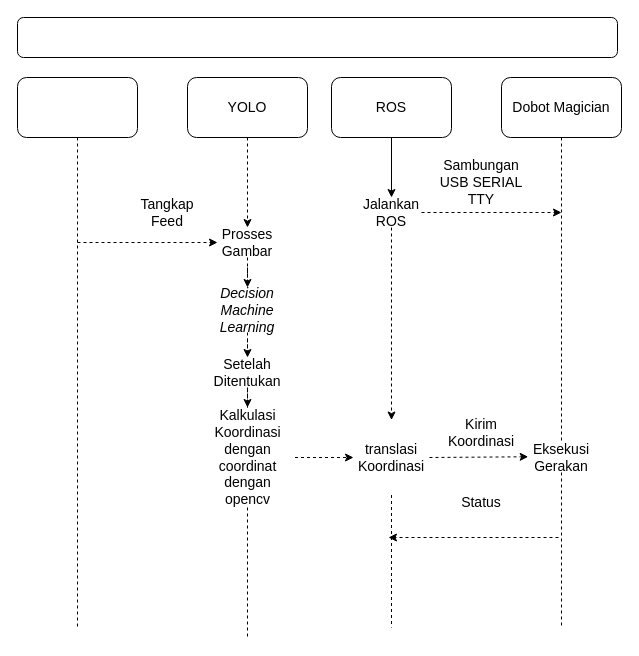
Some shapes in this 639 by 656 pixel diagram are drawn without their labels. The shapes that lost their labels are listed below. From the top down, each one's centre as x and y in pixels, then its label:
pixel 317 37: Tabel UML Sequence
pixel 77 107: Kamera
